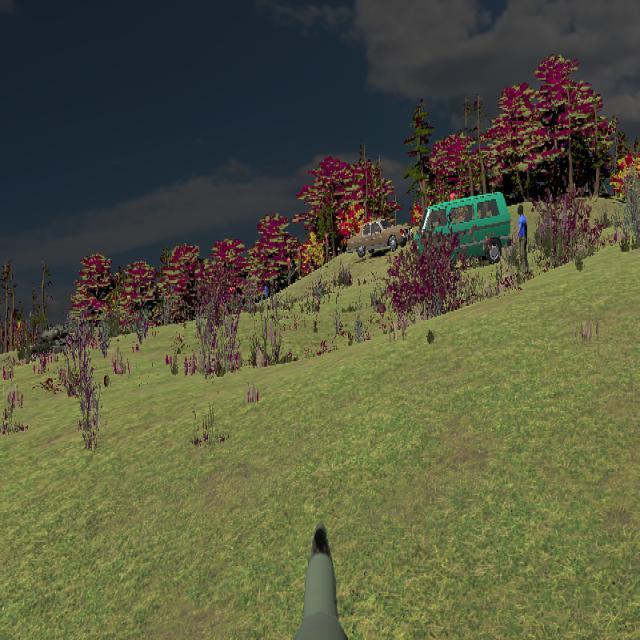Human: (515, 204, 528, 285)
car: (415, 192, 511, 268), (346, 218, 412, 258)
